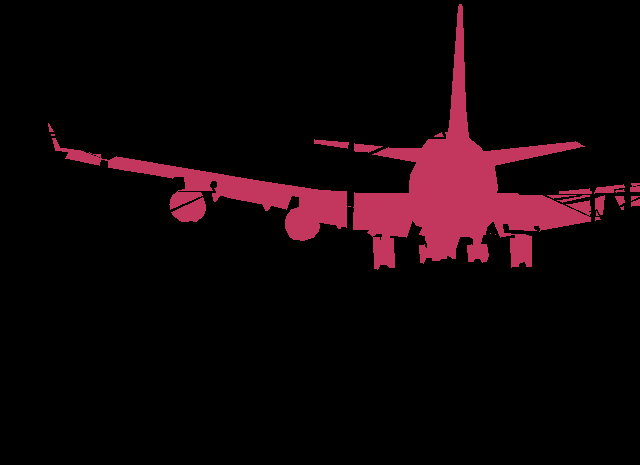Airplane: (48, 4, 640, 269)
